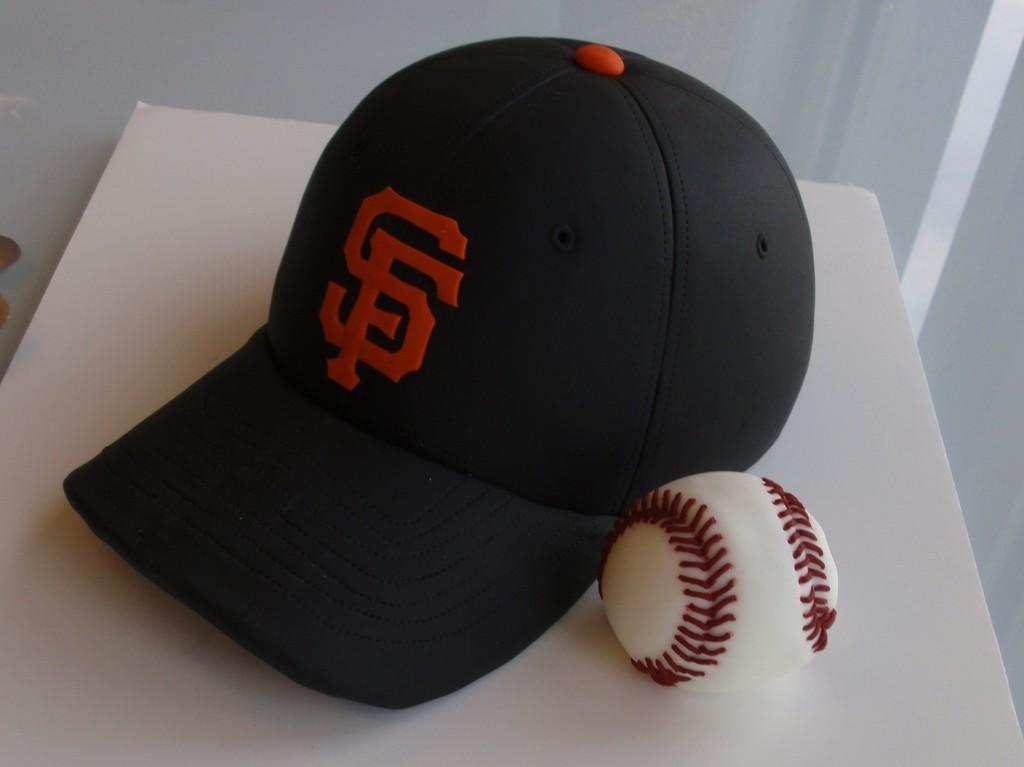Hat: (60, 31, 814, 717)
